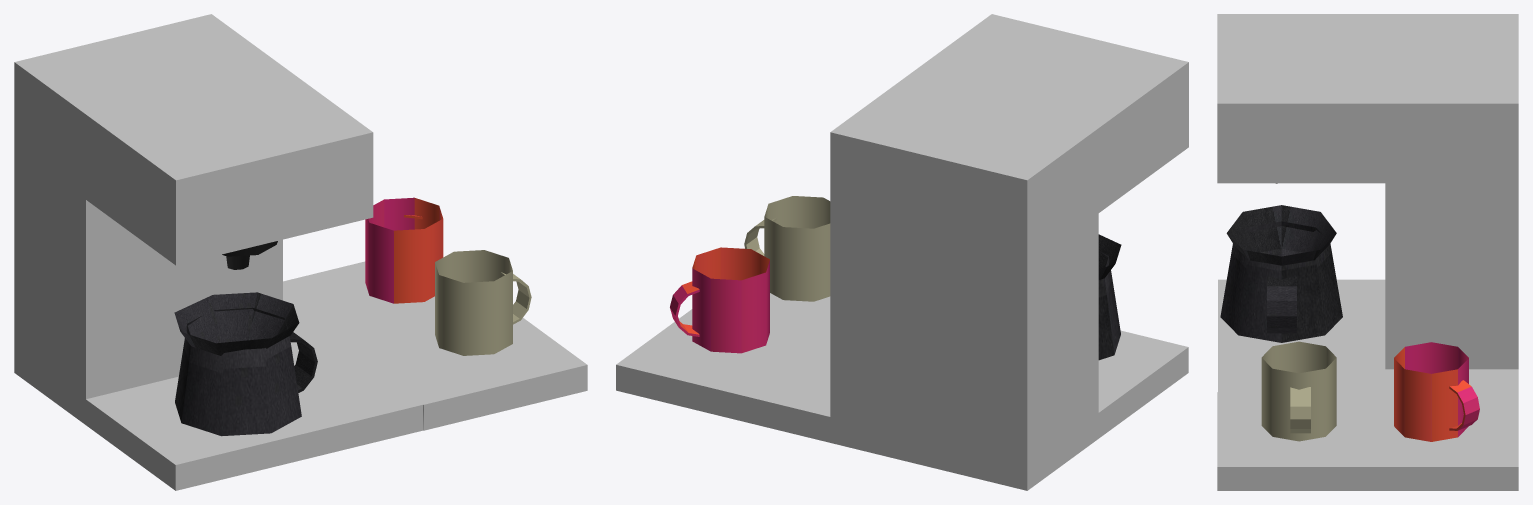
File: Coffee Machine.obj
The picture shows the model from 3 angles, left to right: view 1: azimuth 30°, elevation 25°; view 2: azimuth 150°, elevation 25°; view 3: azimuth 270°, elevation 25°; orthographic projection. The views are drawn at different scales.
Parts seen in each view (by area): view 1: Cube, Cylinder (2), Cylinder (4), Cylinder (5), Cylinder (3), Arch; view 2: Cube, Cylinder (5), Cylinder (4), Cylinder (2), Cylinder (3), Arch (2); view 3: Cube, Cylinder (2), Cylinder (5), Cylinder (4), Cylinder (3), Arch, Arch (1), Arch (2).
Boxes of the visible parts, x1=… form: Cube: x1=14, y1=14, x2=587, y2=490; Cylinder (2): x1=175, y1=307, x2=301, y2=436; Cylinder (4): x1=435, y1=250, x2=512, y2=355; Cylinder (5): x1=365, y1=197, x2=443, y2=303; Cylinder (3): x1=174, y1=292, x2=299, y2=355; Arch: x1=290, y1=332, x2=317, y2=392; Cube: x1=616, y1=14, x2=1188, y2=490; Cylinder (5): x1=692, y1=247, x2=769, y2=353; Cylinder (4): x1=764, y1=196, x2=830, y2=301; Cylinder (2): x1=1098, y1=251, x2=1120, y2=360; Cylinder (3): x1=1098, y1=234, x2=1121, y2=279; Arch (2): x1=670, y1=281, x2=699, y2=336; Cube: x1=1217, y1=14, x2=1518, y2=490; Cylinder (2): x1=1220, y1=221, x2=1342, y2=342; Cylinder (5): x1=1394, y1=342, x2=1468, y2=441; Cylinder (4): x1=1261, y1=341, x2=1336, y2=441; Cylinder (3): x1=1226, y1=205, x2=1336, y2=265; Arch: x1=1267, y1=276, x2=1296, y2=333; Arch (1): x1=1290, y1=387, x2=1310, y2=433; Arch (2): x1=1449, y1=380, x2=1479, y2=430.
Size of the model in its own units: 1.47 by 1.06 by 1.
